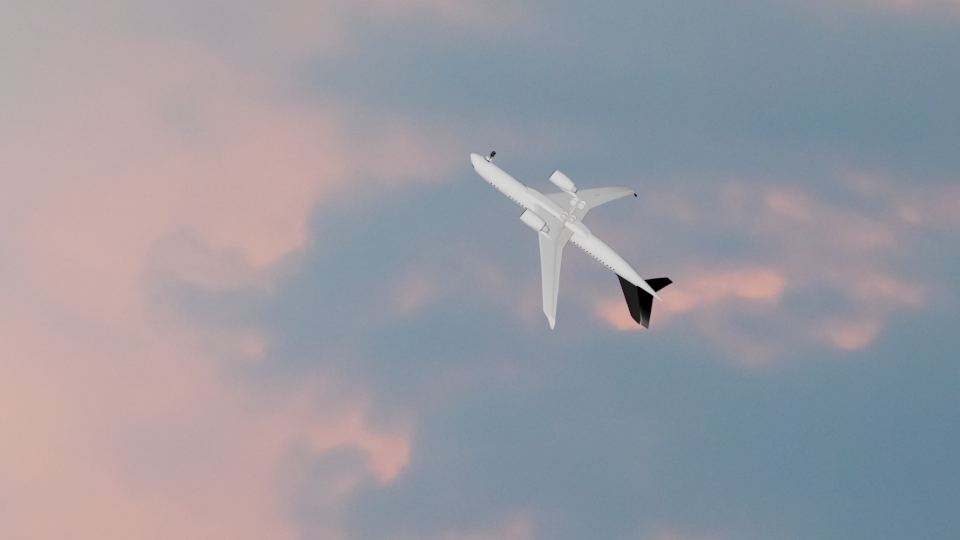plane: (468, 146, 674, 332)
